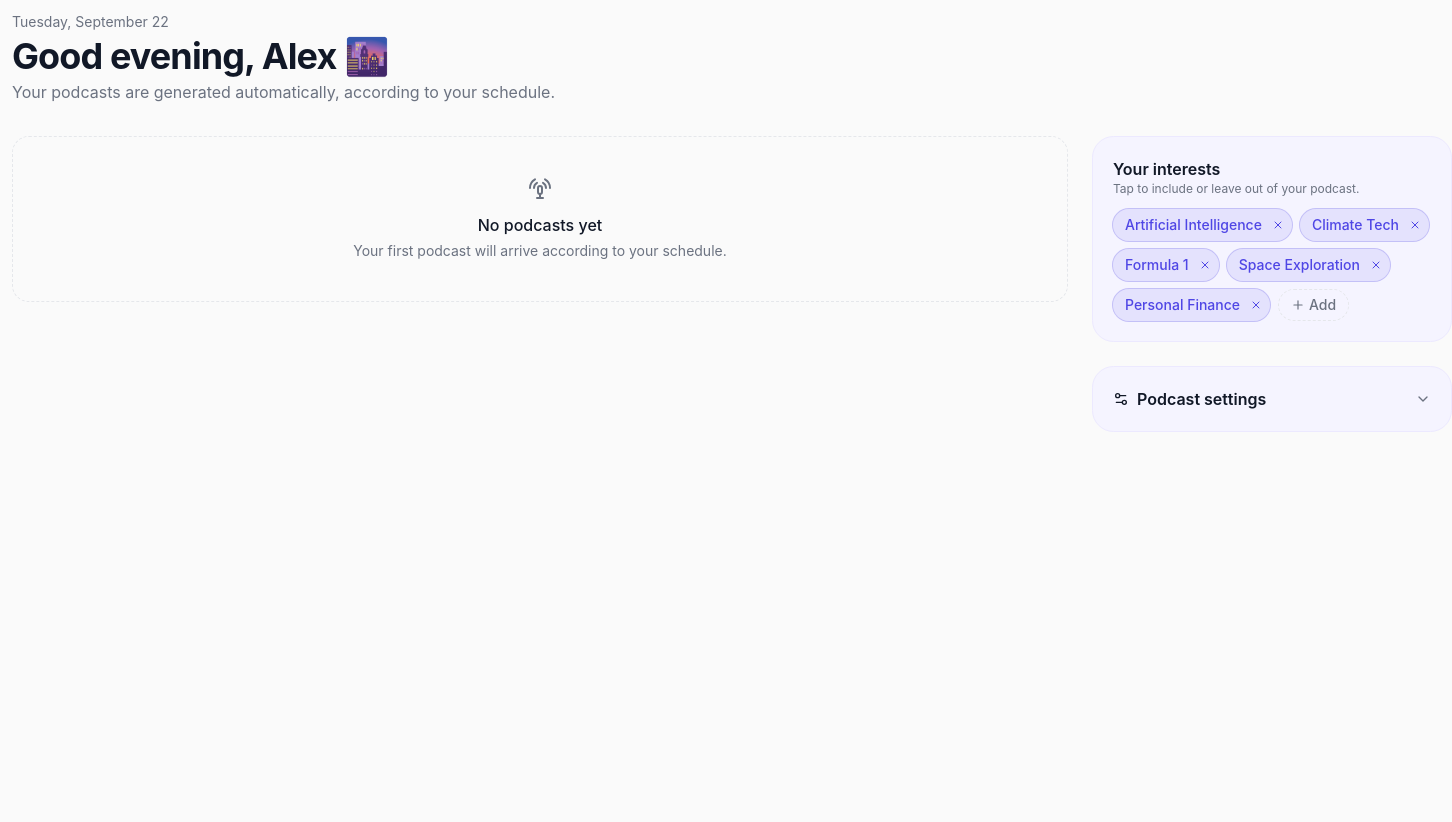
Test: Podcast settings › shows a tone's description only while the selector is open
Click the button "Podcast settings".
click(1202, 399)  # box [1113,387,1431,411]
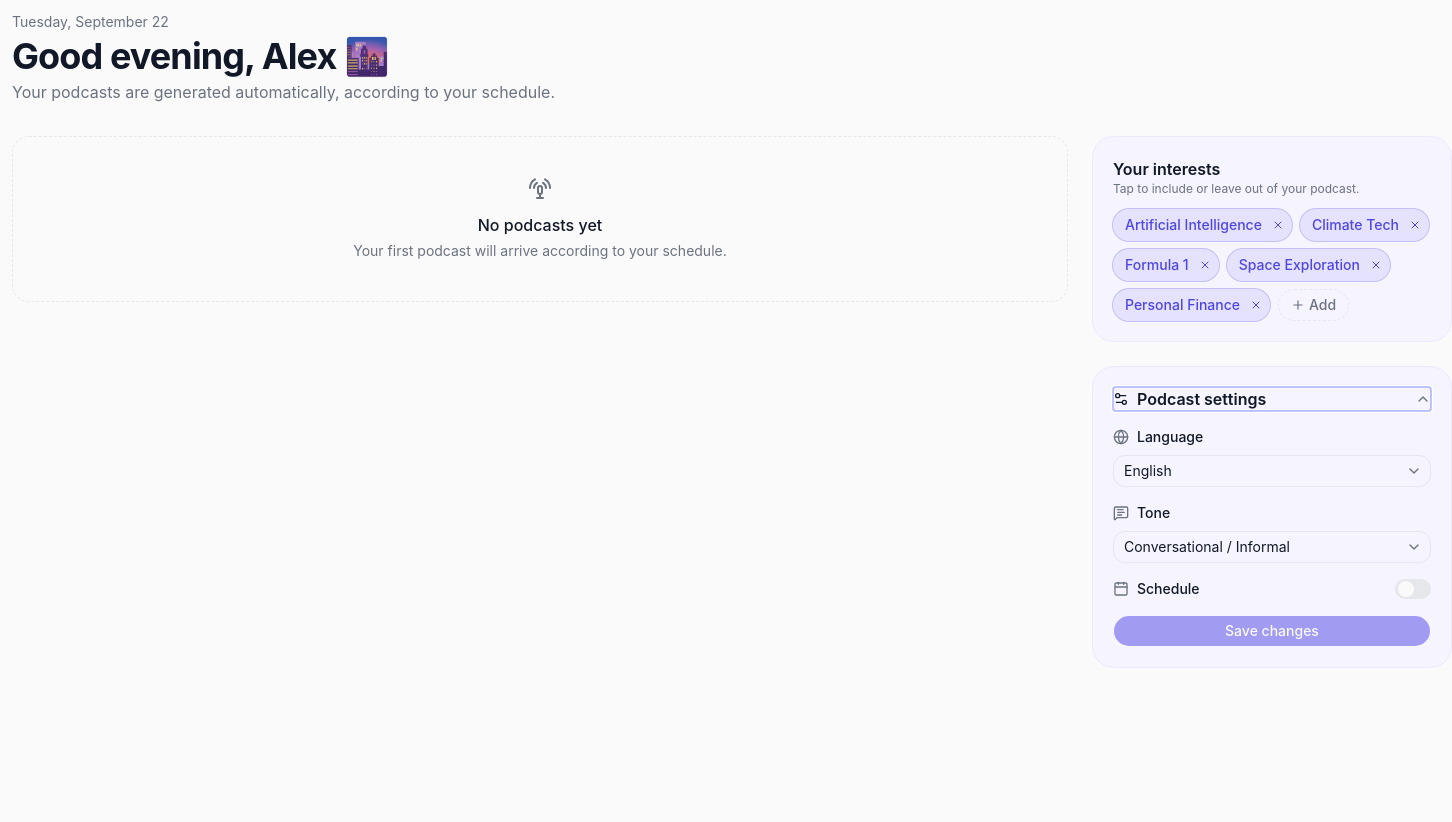
Expected: the text "Friendly, relaxed, and natural — like chatting with a smart friend." is not shown
Expected: the text "Conversational / Informal" is shown, [1124,537,1290,557]
Click the dropdown labelled "Conversational / Informal".
click(1272, 547)  # box [1113,531,1431,563]
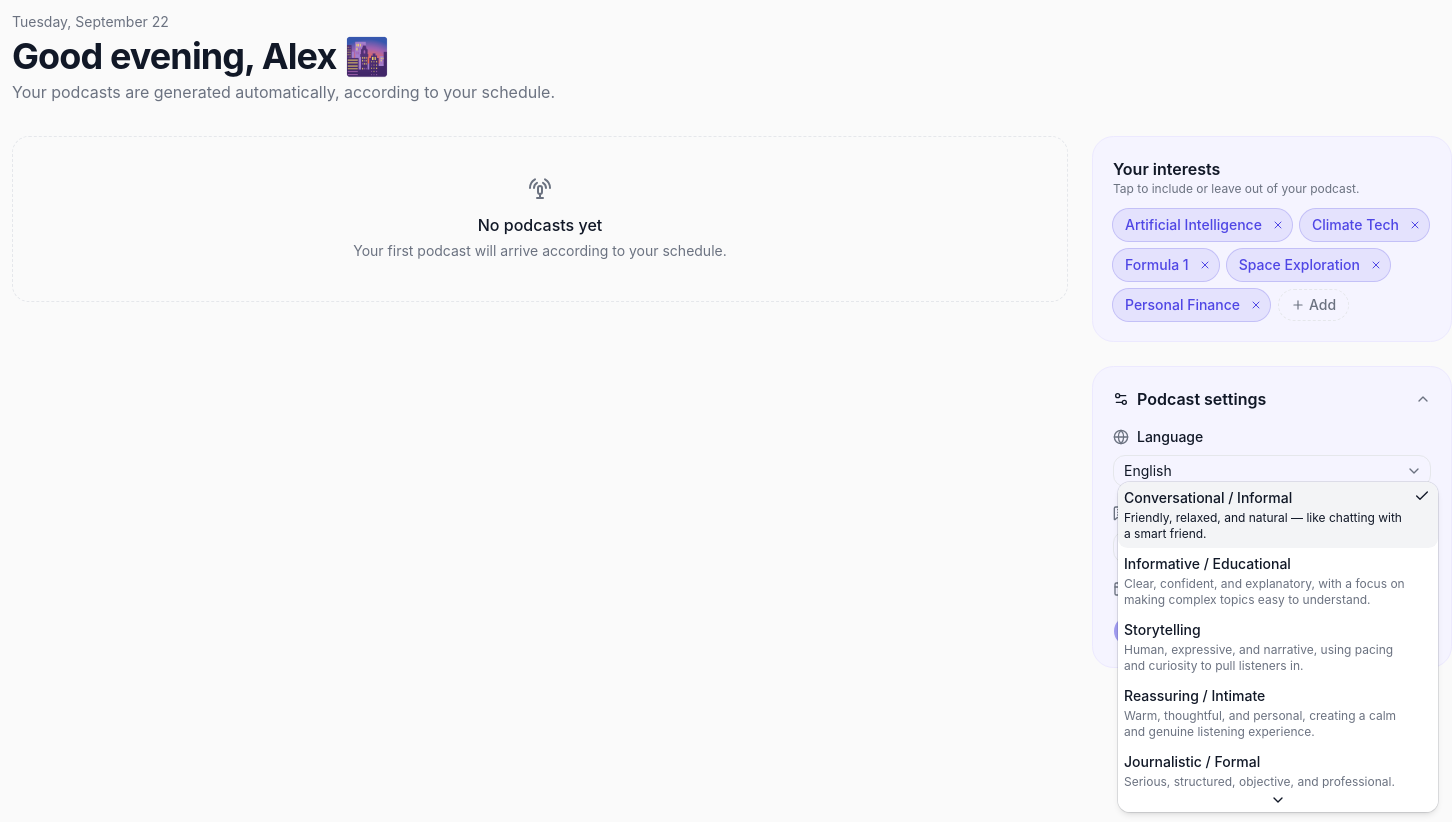
Expected: the text "Friendly, relaxed, and natural — like chatting with a smart friend." is shown, [1124,510,1406,542]
Expected: the text "Clear, confident, and explanatory, with a focus on making complex topics easy to understand." is shown, [1124,576,1405,607]
Expected: the text "Human, expressive, and narrative, using pacing and curiosity to pull listeners in." is shown, [1124,642,1393,673]
Click the option "Storytelling".
click(1259, 647)  # box [1124,621,1393,673]
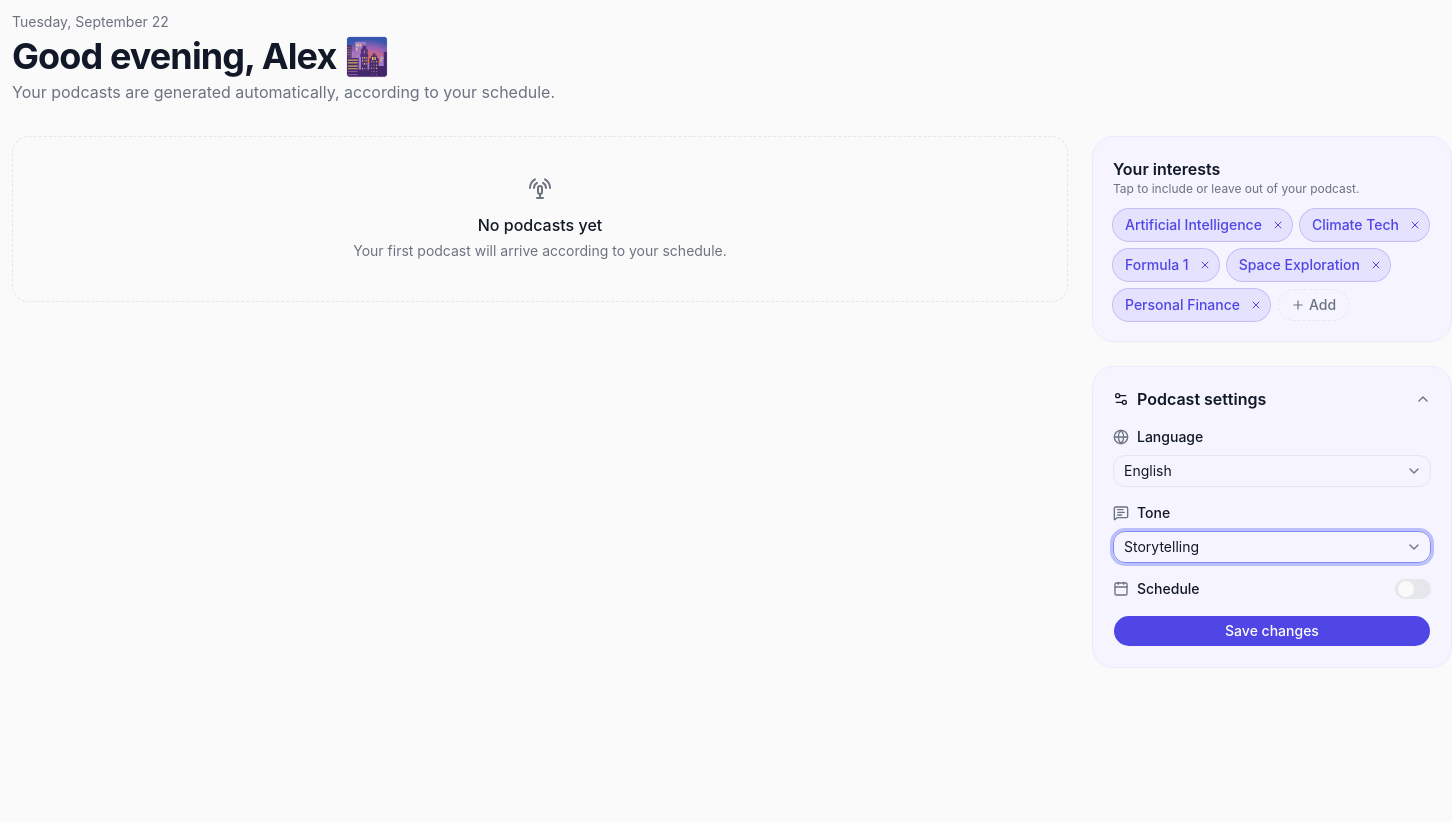
Expected: the option "Friendly, relaxed, and natural — like chatting with a smart friend." is gone
Expected: the option "Clear, confident, and explanatory, with a focus on making complex topics easy to understand." is gone
Expected: the option "Human, expressive, and narrative, using pacing and curiosity to pull listeners in." is gone
